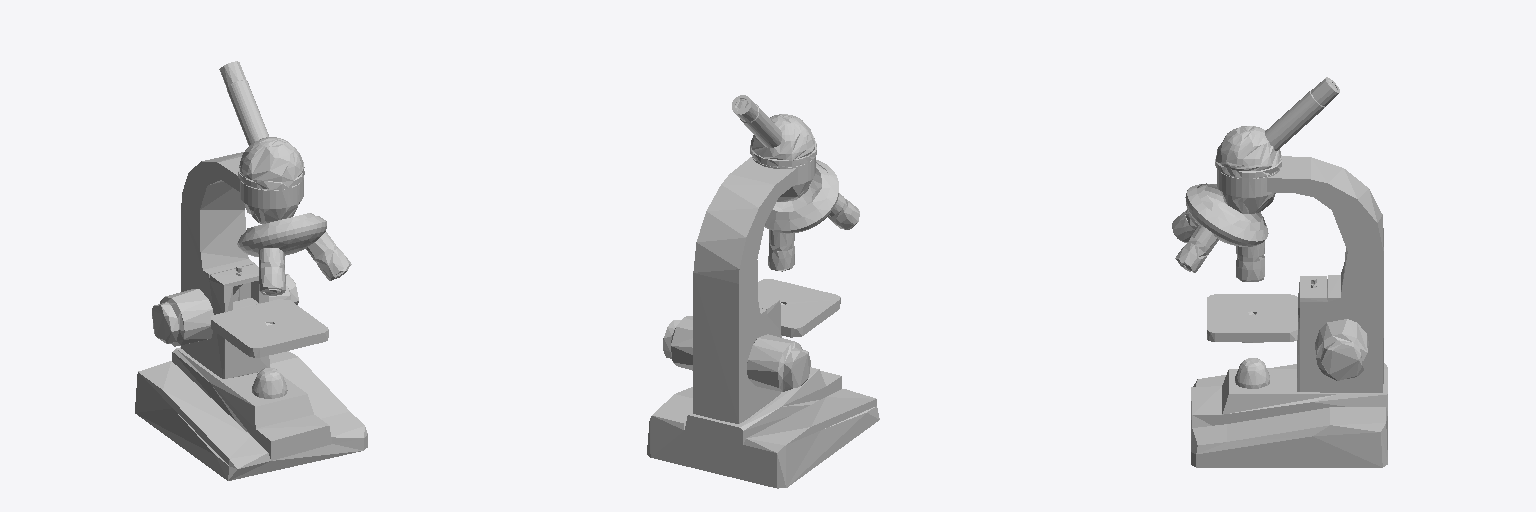
The model's file is micro.obj.
The picture shows the model from 3 angles: view 1: azimuth 30°, elevation 25°; view 2: azimuth 150°, elevation 25°; view 3: azimuth 270°, elevation 25°; orthographic projection.
Visible parts, largest first — view 1: MicroscopeFBXASC046003 polySurface2213, MicroscopeFBXASC046003 polySurface2218, MicroscopeFBXASC046003 polySurface2214, MicroscopeFBXASC046003 polySurface2212, MicroscopeFBXASC046003 polySurface2210, polySurface2206 MicroscopeFBXASC046003, MicroscopeFBXASC046003 polySurface2215, MicroscopeFBXASC046003 polySurface2208, MicroscopeFBXASC046003 polySurface2207, MicroscopeFBXASC046003 polySurface2217; view 2: MicroscopeFBXASC046003 polySurface2218, MicroscopeFBXASC046003 polySurface2213, MicroscopeFBXASC046003 polySurface2214, MicroscopeFBXASC046003 polySurface2210, MicroscopeFBXASC046003 polySurface2212, polySurface2206 MicroscopeFBXASC046003, MicroscopeFBXASC046003 polySurface2215, MicroscopeFBXASC046003 polySurface2211, MicroscopeFBXASC046003 polySurface2209, MicroscopeFBXASC046003 polySurface2208; view 3: MicroscopeFBXASC046003 polySurface2213, MicroscopeFBXASC046003 polySurface2218, MicroscopeFBXASC046003 polySurface2214, MicroscopeFBXASC046003 polySurface2212, polySurface2206 MicroscopeFBXASC046003, MicroscopeFBXASC046003 polySurface2211, MicroscopeFBXASC046003 polySurface2215, MicroscopeFBXASC046003 polySurface2207, MicroscopeFBXASC046003 polySurface2209, MicroscopeFBXASC046003 polySurface2217, MicroscopeFBXASC046003 polySurface2208.
Boxes of the visible parts, box(x1,y1,x2,y2) form: MicroscopeFBXASC046003 polySurface2213: box(135, 347, 367, 480); MicroscopeFBXASC046003 polySurface2218: box(181, 152, 269, 378); MicroscopeFBXASC046003 polySurface2214: box(238, 137, 304, 223); MicroscopeFBXASC046003 polySurface2212: box(211, 299, 328, 357); MicroscopeFBXASC046003 polySurface2210: box(152, 289, 213, 346); polySurface2206 MicroscopeFBXASC046003: box(237, 213, 326, 256); MicroscopeFBXASC046003 polySurface2215: box(219, 61, 268, 145); MicroscopeFBXASC046003 polySurface2208: box(258, 248, 285, 295); MicroscopeFBXASC046003 polySurface2207: box(306, 232, 351, 280); MicroscopeFBXASC046003 polySurface2217: box(252, 368, 287, 398); MicroscopeFBXASC046003 polySurface2218: box(693, 157, 797, 423); MicroscopeFBXASC046003 polySurface2213: box(647, 367, 879, 488); MicroscopeFBXASC046003 polySurface2214: box(750, 114, 816, 201); MicroscopeFBXASC046003 polySurface2210: box(747, 334, 810, 391); MicroscopeFBXASC046003 polySurface2212: box(758, 279, 840, 337); polySurface2206 MicroscopeFBXASC046003: box(764, 160, 838, 233); MicroscopeFBXASC046003 polySurface2215: box(732, 95, 781, 147); MicroscopeFBXASC046003 polySurface2211: box(663, 316, 692, 370); MicroscopeFBXASC046003 polySurface2209: box(768, 230, 794, 271); MicroscopeFBXASC046003 polySurface2208: box(812, 187, 859, 229); MicroscopeFBXASC046003 polySurface2213: box(1191, 363, 1387, 467); MicroscopeFBXASC046003 polySurface2218: box(1267, 156, 1383, 392); MicroscopeFBXASC046003 polySurface2214: box(1215, 126, 1281, 213); MicroscopeFBXASC046003 polySurface2212: box(1207, 294, 1297, 341); polySurface2206 MicroscopeFBXASC046003: box(1185, 183, 1268, 246); MicroscopeFBXASC046003 polySurface2211: box(1315, 319, 1368, 380); MicroscopeFBXASC046003 polySurface2215: box(1265, 77, 1339, 150); MicroscopeFBXASC046003 polySurface2207: box(1175, 225, 1218, 272); MicroscopeFBXASC046003 polySurface2209: box(1236, 241, 1264, 281); MicroscopeFBXASC046003 polySurface2217: box(1235, 358, 1269, 388); MicroscopeFBXASC046003 polySurface2208: box(1172, 195, 1218, 242).
Size of the model in its own units: 0.8276 by 2.01 by 1.11.